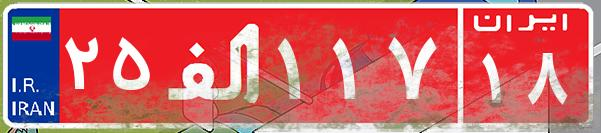1: (273, 28, 330, 110), (330, 28, 385, 110), (475, 38, 525, 113)
2: (57, 26, 110, 107)
5: (110, 28, 158, 105)
7: (385, 28, 445, 110)
8: (525, 38, 570, 115)
الف: (158, 15, 273, 115)
